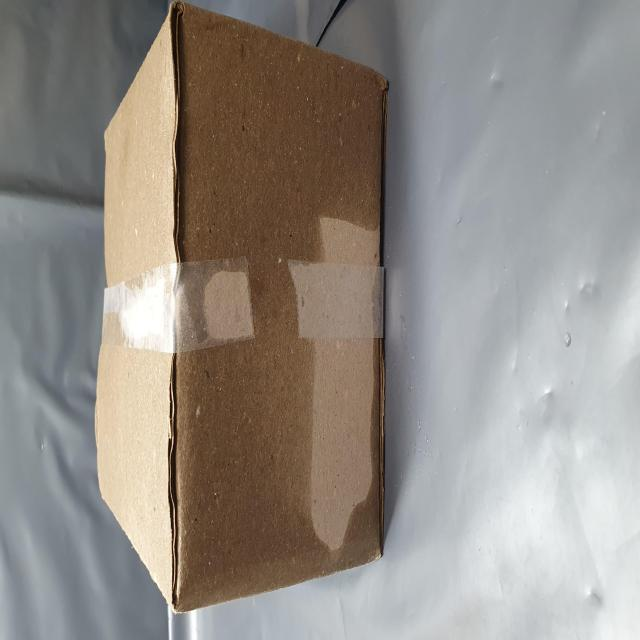wet: (19, 170, 343, 640)
